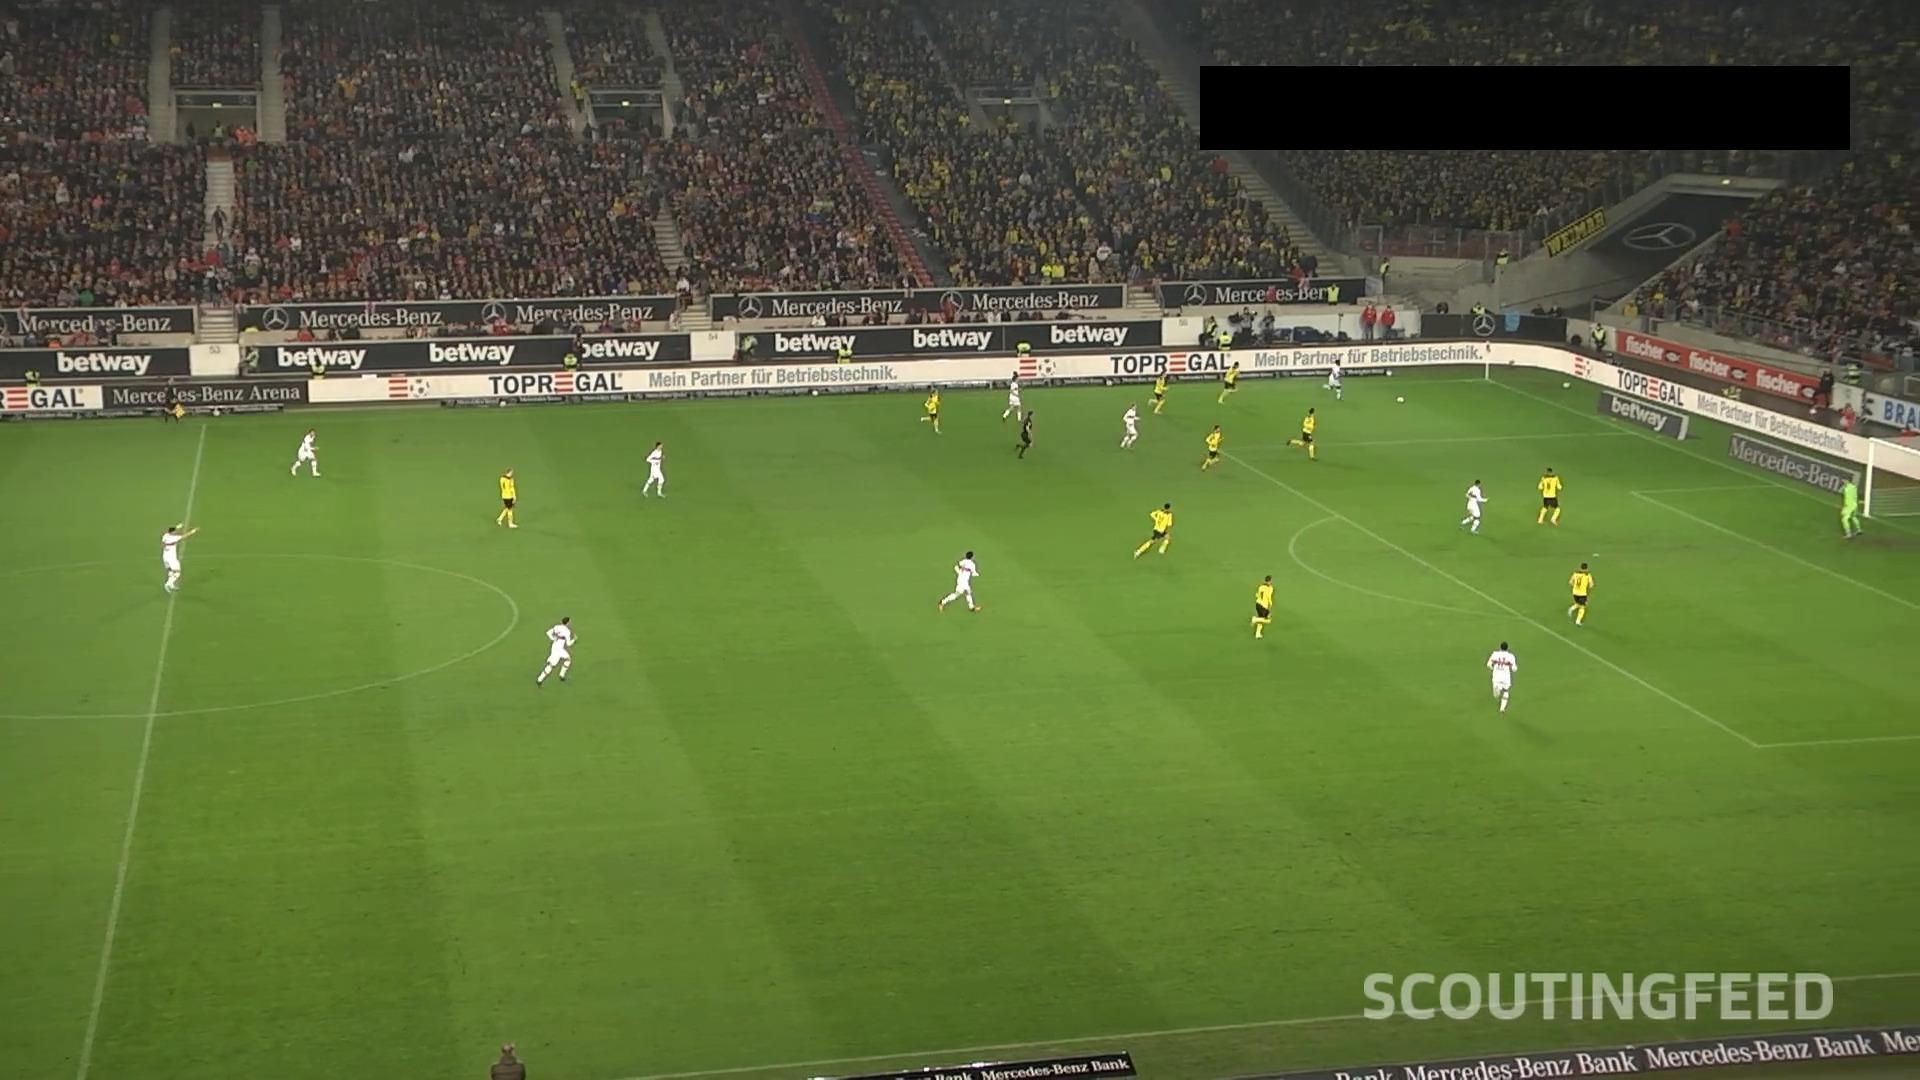ball: (1395, 394, 1406, 405)
